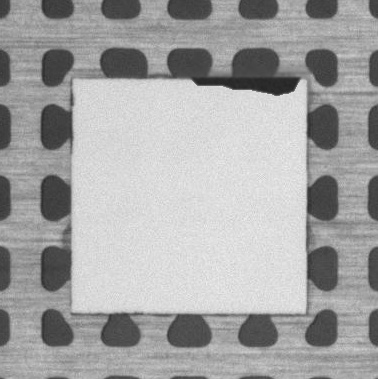DIE_BROKEN: (192, 75, 302, 98)
